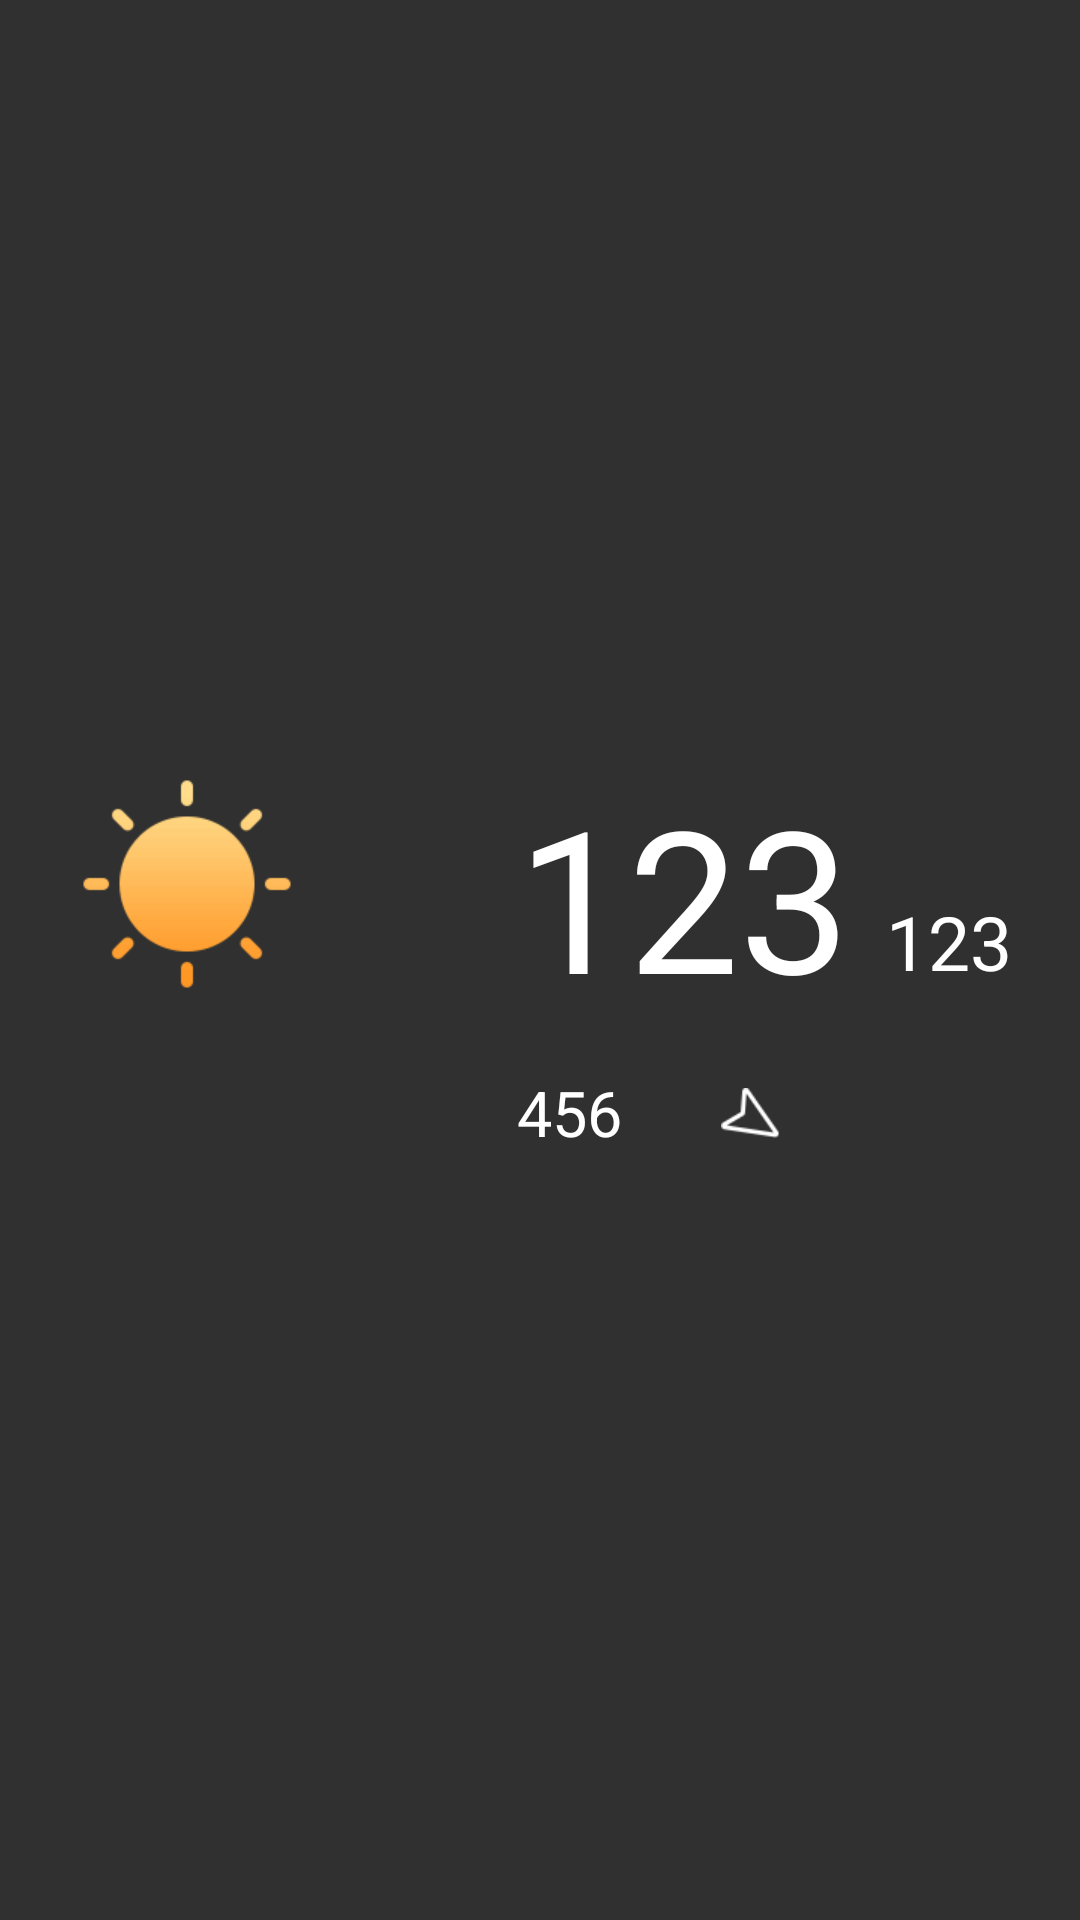

Locate icon controls on the screen. Image size 1080px×1920px, boxes as Rect(x1, y1, x2, y2).
weather fine: Rect(83, 780, 291, 988)
